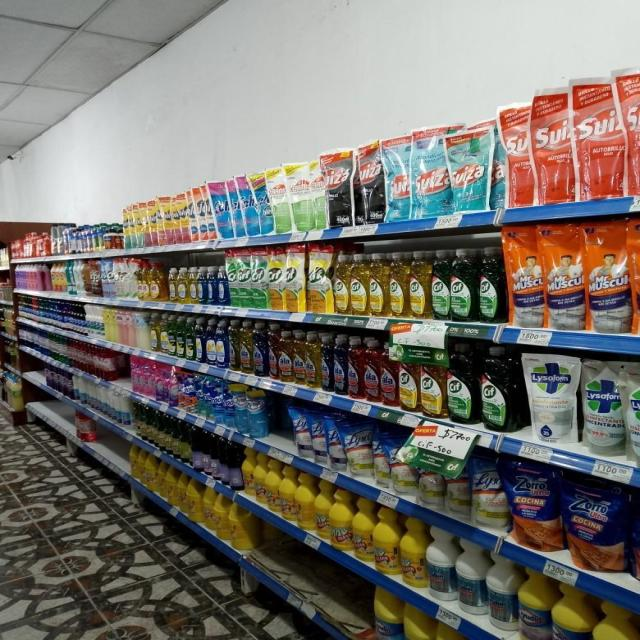ala_conc_amarillo: (306, 332, 320, 389), (278, 328, 292, 382), (293, 330, 305, 386), (240, 320, 252, 374)
ala_conc_azul: (252, 321, 266, 377), (320, 333, 333, 392), (334, 335, 346, 395), (268, 323, 278, 380)
ala_conc_rojo: (380, 341, 398, 407), (347, 336, 363, 399), (364, 338, 379, 403)
cif_conc_bot_amarilla: (420, 342, 446, 419), (409, 250, 430, 319), (399, 344, 419, 413), (389, 251, 409, 318), (369, 252, 388, 318), (350, 252, 368, 316), (333, 252, 350, 315)
cif_conc_botella_verde: (480, 344, 520, 432), (448, 342, 478, 425), (478, 246, 506, 324), (451, 248, 476, 322), (432, 249, 449, 321)
cif_conc_sachet_amarillo: (307, 242, 332, 314), (285, 244, 305, 312), (268, 245, 285, 311)
cif_conc_sachet_verde: (251, 247, 268, 309), (237, 248, 250, 308), (229, 249, 240, 307)
magistral_con_amarillo: (177, 266, 187, 304), (189, 266, 199, 304), (167, 266, 177, 303)
magistral_con_azul: (632, 494, 640, 587), (216, 319, 227, 368), (206, 318, 216, 366), (218, 263, 228, 306), (196, 317, 205, 363), (206, 266, 216, 304), (197, 266, 205, 304)
